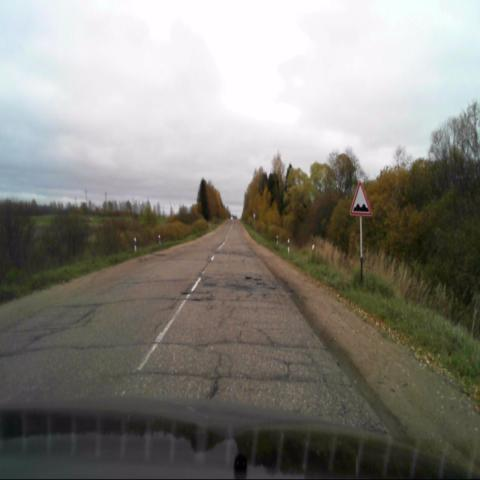1_16: (350, 182, 372, 218)
